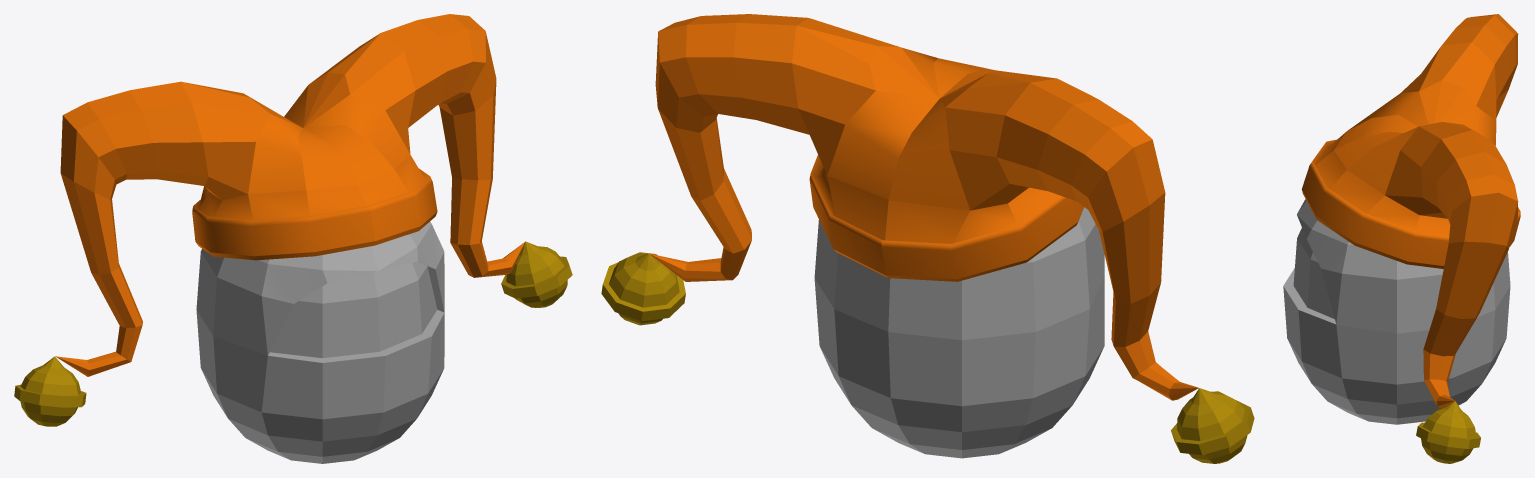
Rendered from SM_Character_SMALLStaff_1.fbx.
3 views of the same model, side by side, from view 1: azimuth 30°, elevation 25°; view 2: azimuth 150°, elevation 25°; view 3: azimuth 270°, elevation 25° (orthographic). The views are drawn at different scales.
Visible parts, largest first — view 1: Fire_JesterHat_Bells3; view 2: Fire_JesterHat_Bells3; view 3: Fire_JesterHat_Bells3.
Boxes of the visible parts, x1,y1,x2,y2 form: Fire_JesterHat_Bells3: (14,14,572,463); Fire_JesterHat_Bells3: (601,14,1254,463); Fire_JesterHat_Bells3: (1283,14,1520,463).
Bounding box in the file's own units: 5.03 × 3.19 × 2.09.
